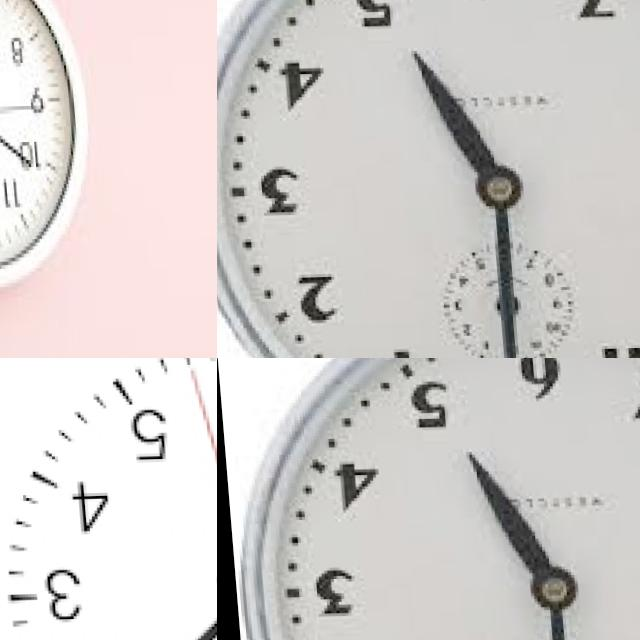Clocks-images: (218, 1, 640, 359), (229, 359, 640, 640), (1, 359, 218, 640), (1, 1, 95, 297)
